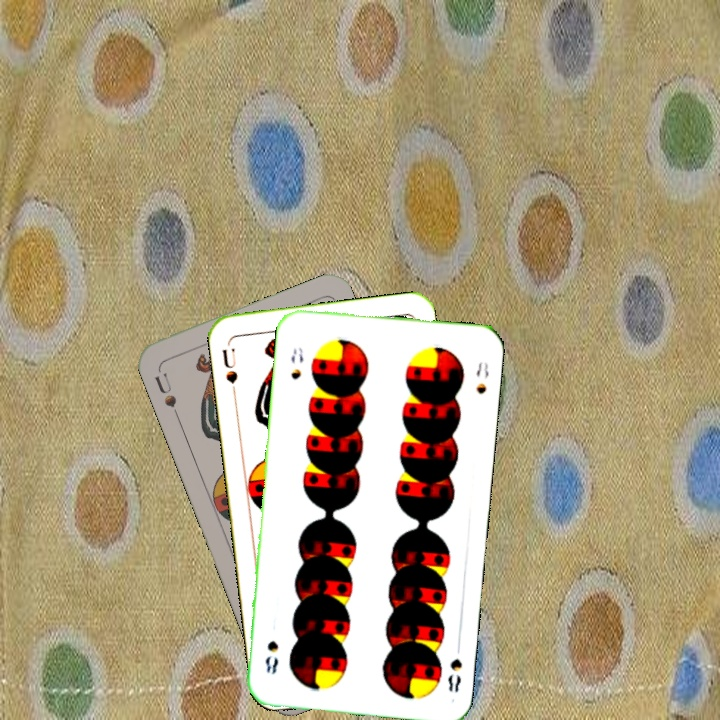S8: (444, 638, 465, 695), (286, 343, 306, 382)
SU: (151, 368, 183, 422), (218, 339, 240, 398)
